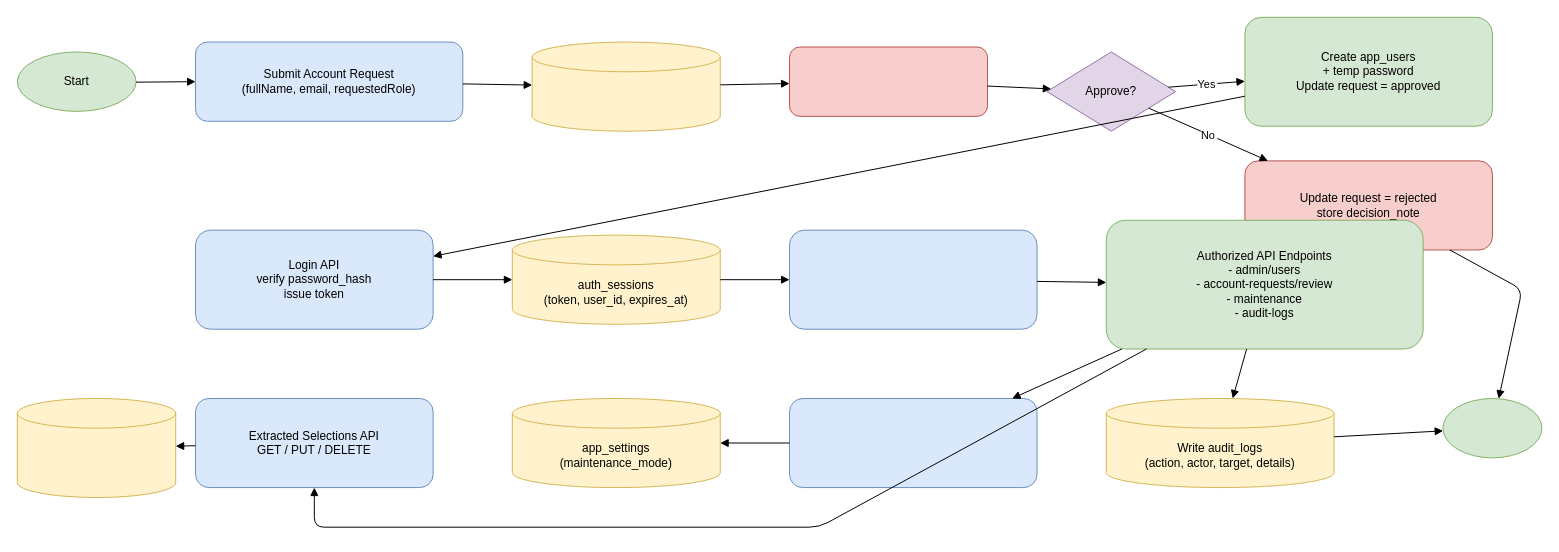
The diagram is 1559 pixels wide and 552 high, and some of its shapes have lost their labels. The shapes that lost their labels are listed below. From the top down, each one's centre as x and y in pixels, then its label:
(625,86): account_requests status = pending
(888,81): Admin Review Request
(913,279): Auth Middleware requirePermissionFromRequest
(96,447): extracted_selections (file_name, headers, rows, saved_at)
(913,442): Maintenance Mode API read/write app_settings
(1492,427): End
